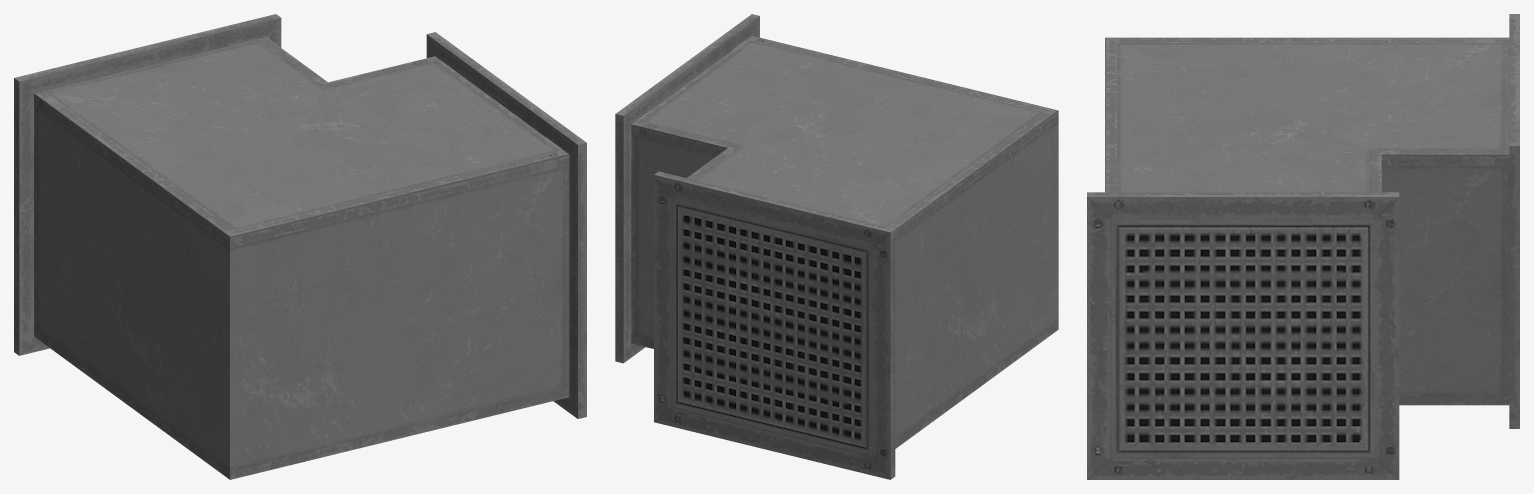
The model's file is HH_Ventilation_End.fbx.
3 renders of one model, left to right at view 1: azimuth 30°, elevation 25°; view 2: azimuth 150°, elevation 25°; view 3: azimuth 270°, elevation 25°, orthographic. The views are drawn at different scales.
Parts seen in each view (by area): view 1: HH_Ventilation_End; view 2: HH_Ventilation_End; view 3: HH_Ventilation_End.
Part boxes in pixels (left/top/right/bottom): HH_Ventilation_End: left=14, top=14, right=586, bottom=479; HH_Ventilation_End: left=615, top=14, right=1058, bottom=479; HH_Ventilation_End: left=1087, top=14, right=1519, bottom=479.
Size of the model in its own units: 78.22 by 56.45 by 78.22.
